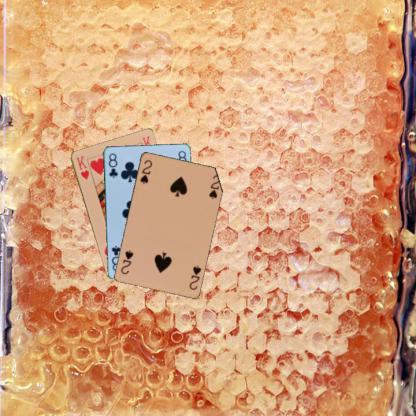2s: (138, 157, 153, 185), (187, 263, 202, 291)
8c: (106, 150, 118, 179)
Kh: (74, 153, 90, 181)
